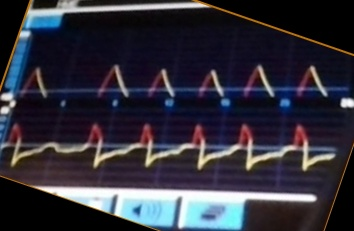Ineffective_effort Flow: (4, 119, 339, 176)
Ineffective_effort Volume: (21, 51, 328, 101)
